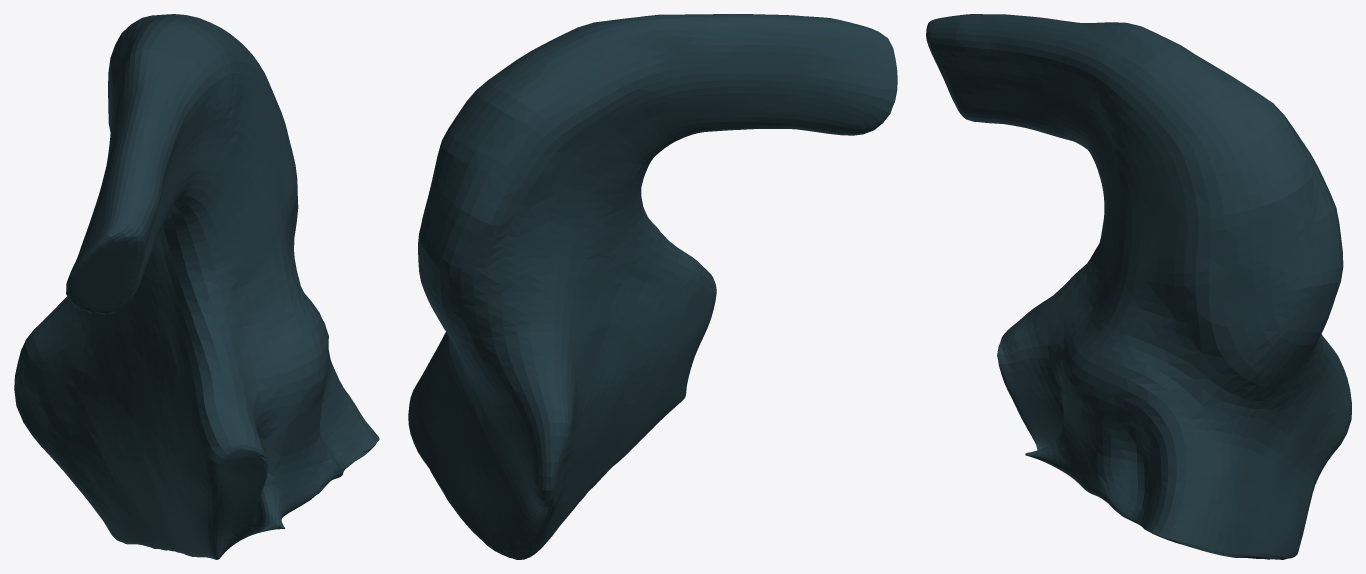
File: rightPelvis2Model.obj
3 views of the same model, side by side, from view 1: azimuth 30°, elevation 25°; view 2: azimuth 150°, elevation 25°; view 3: azimuth 270°, elevation 25° (orthographic). The views are drawn at different scales.
Visible parts, largest first — view 1: grp1; view 2: grp1; view 3: grp1.
Part boxes in pixels (x1,y1,x2,y2): grp1: (14, 14, 379, 559); grp1: (408, 14, 897, 559); grp1: (926, 14, 1351, 559).
Bounding box in the file's own units: 68.98 × 87.76 × 68.05.
